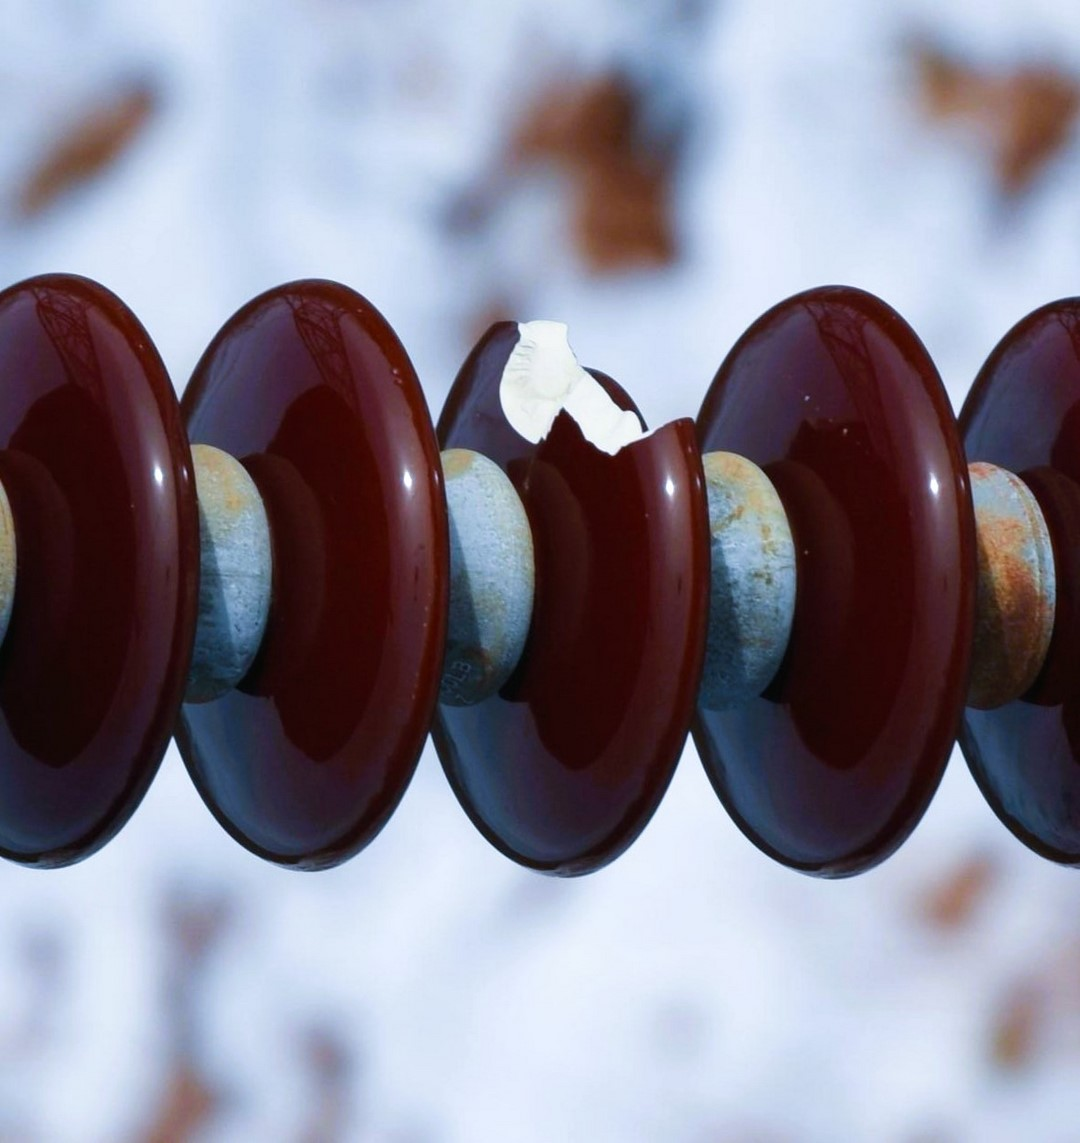insulator breakage: (415, 280, 728, 882)
